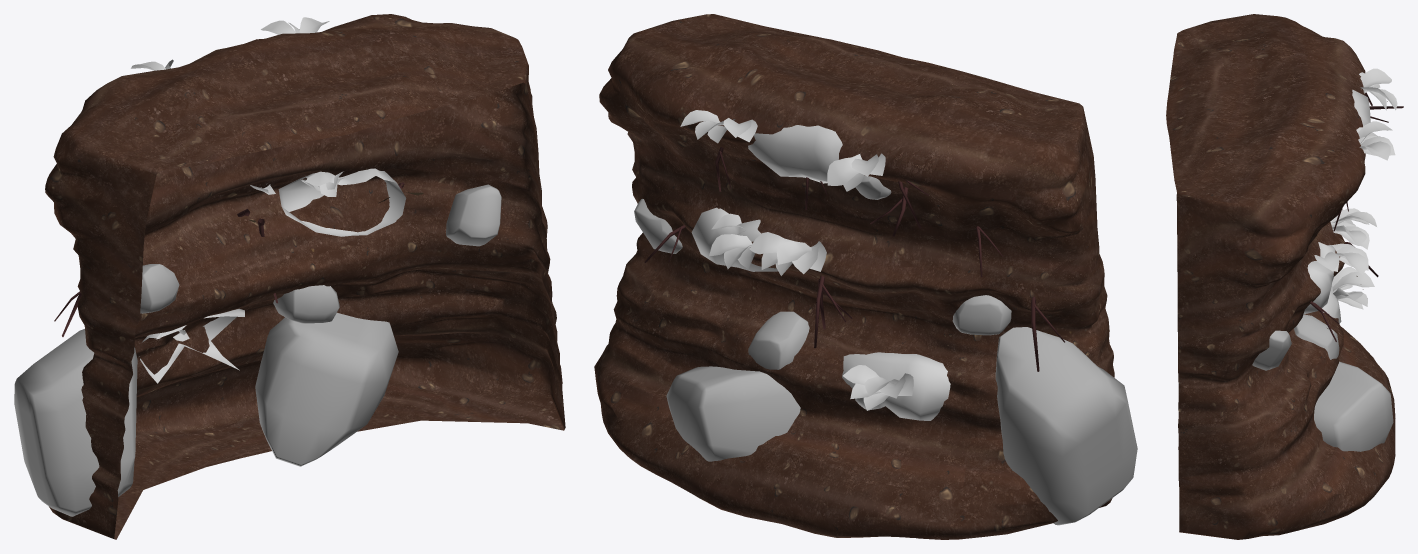
File: Jordvgg_mitt2.fbx
3 views of the same model, side by side, from view 1: azimuth 30°, elevation 25°; view 2: azimuth 150°, elevation 25°; view 3: azimuth 270°, elevation 25° (orthographic). The views are drawn at different scales.
Visible parts, largest first — view 1: Cliffstone:polySurface4791; view 2: Cliffstone:polySurface4791; view 3: Cliffstone:polySurface4791.
Boxes of the visible parts, box(x1,y1,x2,y2) form: Cliffstone:polySurface4791: box(14, 14, 565, 539); Cliffstone:polySurface4791: box(594, 14, 1137, 539); Cliffstone:polySurface4791: box(1166, 14, 1403, 539).
Bounding box in the file's own units: 566 × 422 × 249.
